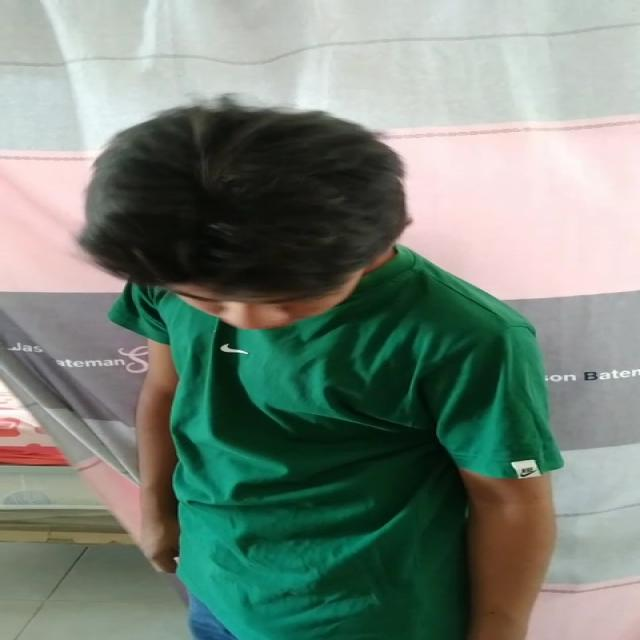9_cabeza_baja: (78, 97, 416, 333)
